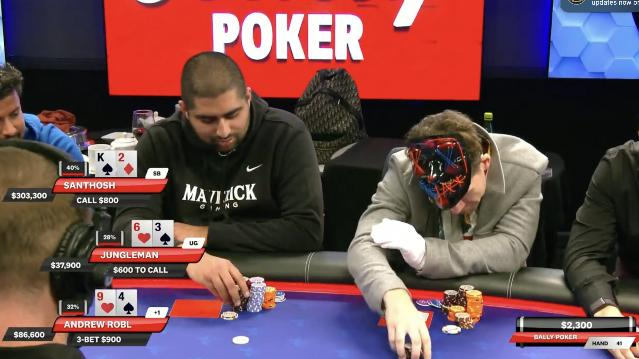2D: (118, 151, 136, 176)
3S: (155, 222, 173, 247)
4S: (118, 290, 136, 316)
6H: (133, 222, 151, 247)
9H: (96, 291, 114, 315)
KS: (98, 151, 114, 176)
